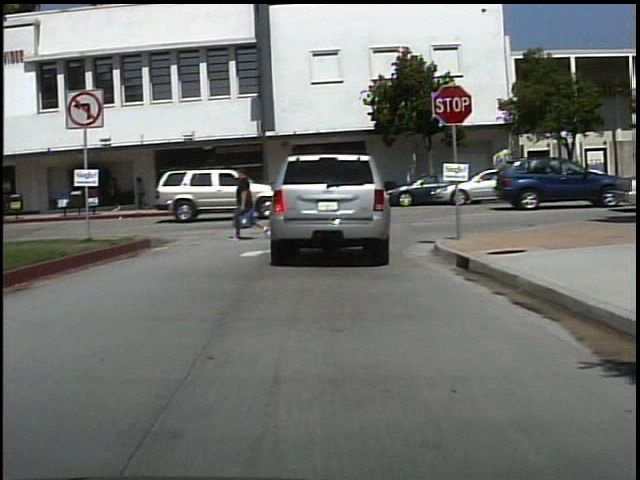person: (232, 162, 271, 243), (105, 171, 131, 211), (133, 172, 153, 210)
